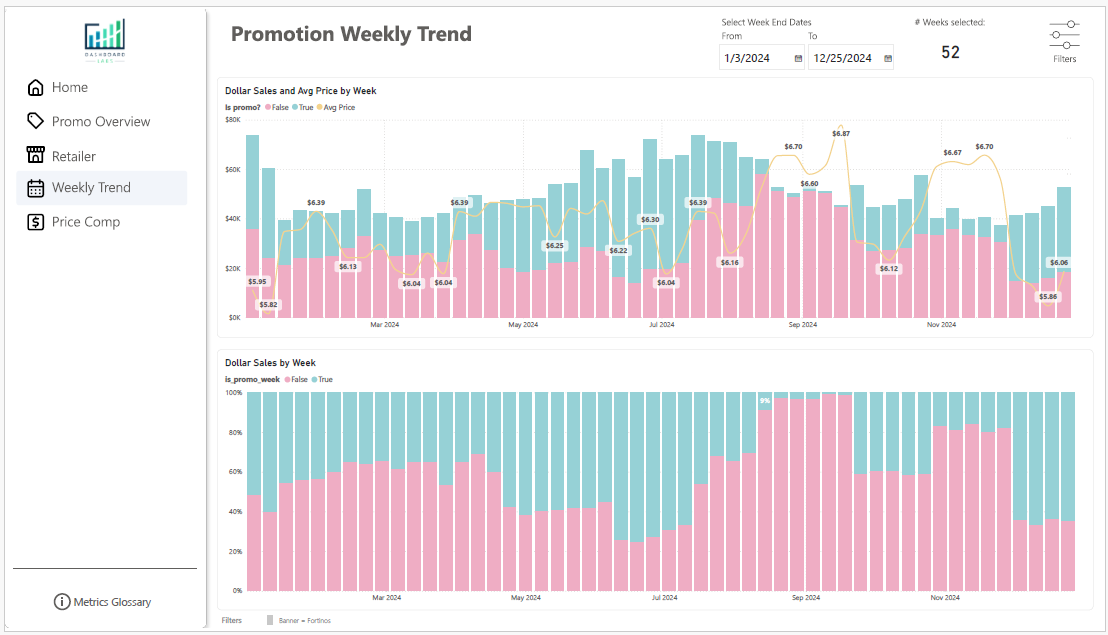

The dashboard page shown, as its layout file describes it:
{"tool":"powerbi","page":{"name":"Weekly Trend","canvas":[1920,1080],"ordinal":3},"visuals":[{"type":"actionButton","box":[1811.2,15,75,85],"z":0},{"type":"lineStackedColumnComboChart","title":"Dollar Sales and Avg Price by Week","fields":{"Category":["dCalendar.week_end_date"],"Y":["_Measures.Total Dollar Sales"],"Series":["fPromo.is_promo_week"],"Y2":["_Measures.Total Avg Price"]},"box":[378.6,130,1518.6,437.1],"z":1000},{"type":"slicer","fields":{"Values":["dCalendar.week_end_date"]},"box":[1232.9,50,344.3,68.6],"z":2000},{"type":"card","fields":{"Values":["_Measures.Weeks#"]},"box":[1601.4,38.6,97.1,64.3],"z":3000},{"type":"hundredPercentStackedColumnChart","title":"Dollar Sales by Week","fields":{"Category":["dCalendar.week_end_date"],"Y":["_Measures.Total Dollar Sales"],"Series":["fPromo.is_promo_week"]},"box":[378.6,605.7,1508.6,438.6],"z":4000},{"type":"textbox","box":[373.3,1052.4,98.6,27.1],"z":6000},{"type":"multiRowCard","fields":{"Values":["_Measures.Dump Filters"]},"box":[473.3,1051.7,1425,26.7],"z":7000},{"type":"actionButton","box":[80,1012.9,178.6,40],"z":8000},{"type":"actionButton","box":[23.3,115,295,41.7],"z":9000},{"type":"actionButton","box":[21.7,173.3,296.7,40],"z":10000},{"type":"actionButton","box":[21.7,231.7,296.7,41.7],"z":11000},{"type":"actionButton","box":[22.5,348.8,296,48],"z":12000}]}

Visuals, with their boxes on the page's 1920x1080 design canvas (x1, y1, x2, y2). These are canvas units, not pixel positions in the 1108x635 screenshot, which may show the page scaled, cropped or inside an application window:
actionButton: {"x1": 1811, "y1": 15, "x2": 1886, "y2": 100}
"Dollar Sales and Avg Price by Week" lineStackedColumnComboChart: {"x1": 379, "y1": 130, "x2": 1897, "y2": 567}
slicer - dCalendar.week_end_date: {"x1": 1233, "y1": 50, "x2": 1577, "y2": 119}
card - _Measures.Weeks#: {"x1": 1601, "y1": 39, "x2": 1698, "y2": 103}
"Dollar Sales by Week" hundredPercentStackedColumnChart: {"x1": 379, "y1": 606, "x2": 1887, "y2": 1044}
textbox: {"x1": 373, "y1": 1052, "x2": 472, "y2": 1080}
multiRowCard - _Measures.Dump Filters: {"x1": 473, "y1": 1052, "x2": 1898, "y2": 1078}
actionButton: {"x1": 80, "y1": 1013, "x2": 259, "y2": 1053}
actionButton: {"x1": 23, "y1": 115, "x2": 318, "y2": 157}
actionButton: {"x1": 22, "y1": 173, "x2": 318, "y2": 213}
actionButton: {"x1": 22, "y1": 232, "x2": 318, "y2": 273}
actionButton: {"x1": 22, "y1": 349, "x2": 318, "y2": 397}
